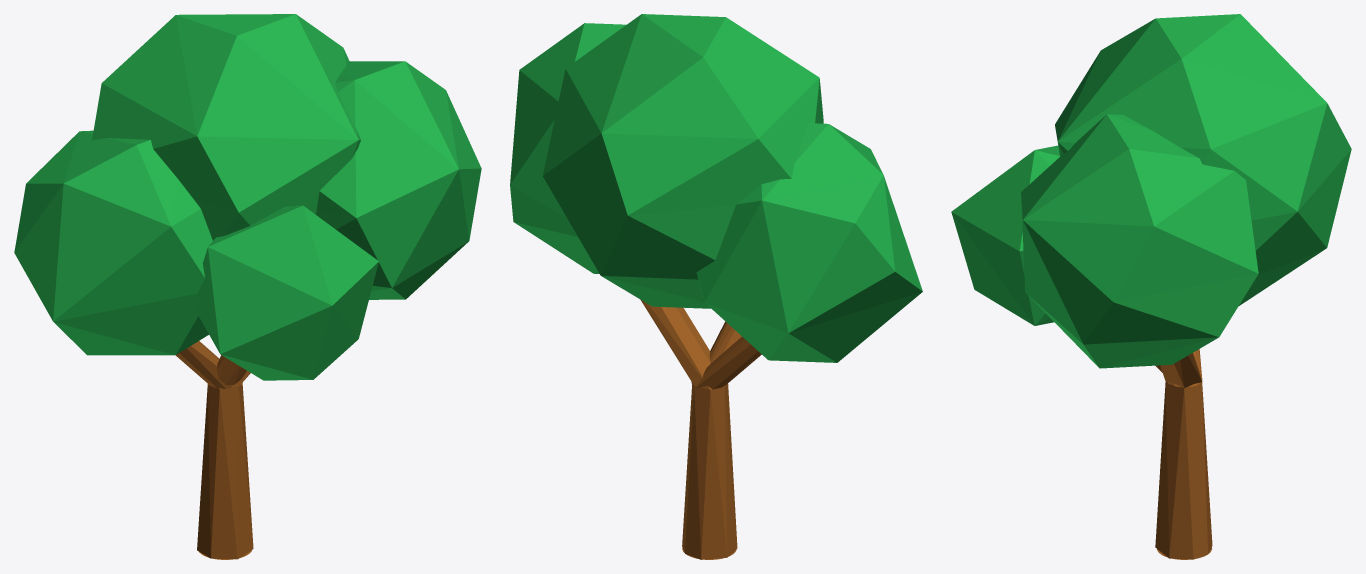
Rendered from arbol_low_poly_mi_primer_blender.glb.
3 renders of one model, left to right at view 1: azimuth 30°, elevation 25°; view 2: azimuth 150°, elevation 25°; view 3: azimuth 270°, elevation 25°, orthographic.
Visible parts, largest first — view 1: Icosphere.000, Cylinder; view 2: Icosphere.000, Cylinder; view 3: Icosphere.000, Cylinder.
Part boxes in pixels (box(x1,y1,x2,y2)): Icosphere.000: box(14, 14, 481, 380); Cylinder: box(175, 341, 253, 559); Icosphere.000: box(510, 14, 922, 362); Cylinder: box(640, 299, 761, 559); Icosphere.000: box(951, 14, 1351, 368); Cylinder: box(1155, 349, 1212, 559).
Bounding box in the file's own units: 11.08 × 13.2 × 9.06.
Materials: 2 (1 with a texture image).
